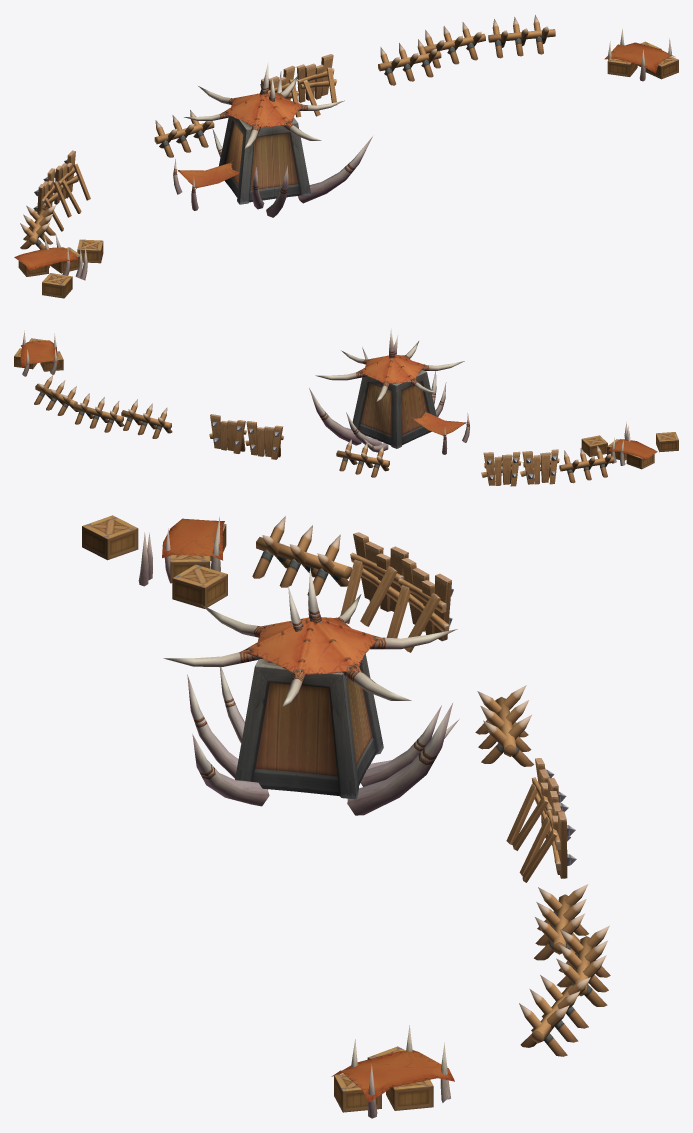
Rendered from area_12_20.fbx.
3 views of the same model, one above another, from view 1: azimuth 30°, elevation 25°; view 2: azimuth 150°, elevation 25°; view 3: azimuth 270°, elevation 25° (orthographic). The views are drawn at different scales.
Visible parts, largest first — view 1: area_12_20; view 2: area_12_20; view 3: area_12_20.
Boxes of the visible parts, x1,y1,x2,y2 form: area_12_20: (14,15,678,298); area_12_20: (14,328,678,486); area_12_20: (82,515,610,1118).
Size of the model in its own units: 63.98 by 11.85 by 24.64.
